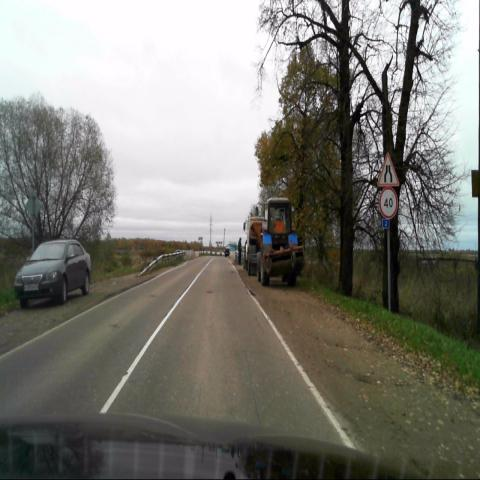1_20: (378, 153, 398, 186)
